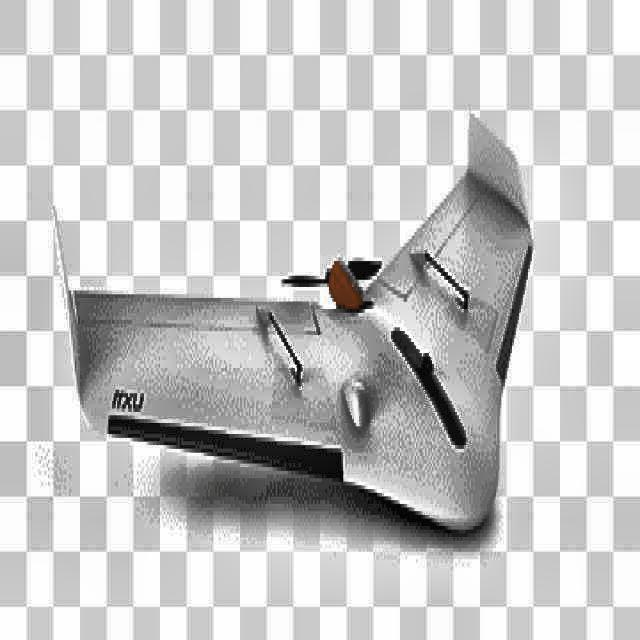iha: (35, 100, 544, 541)
